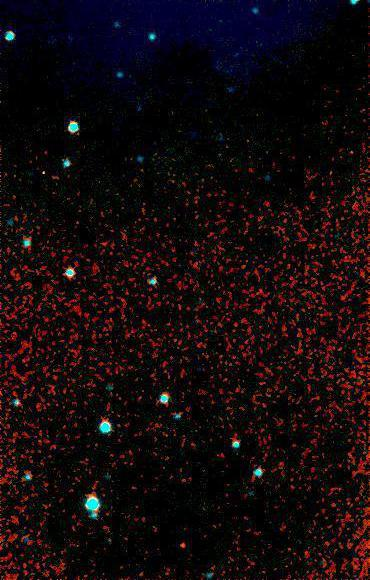star: (170, 531, 200, 561)
